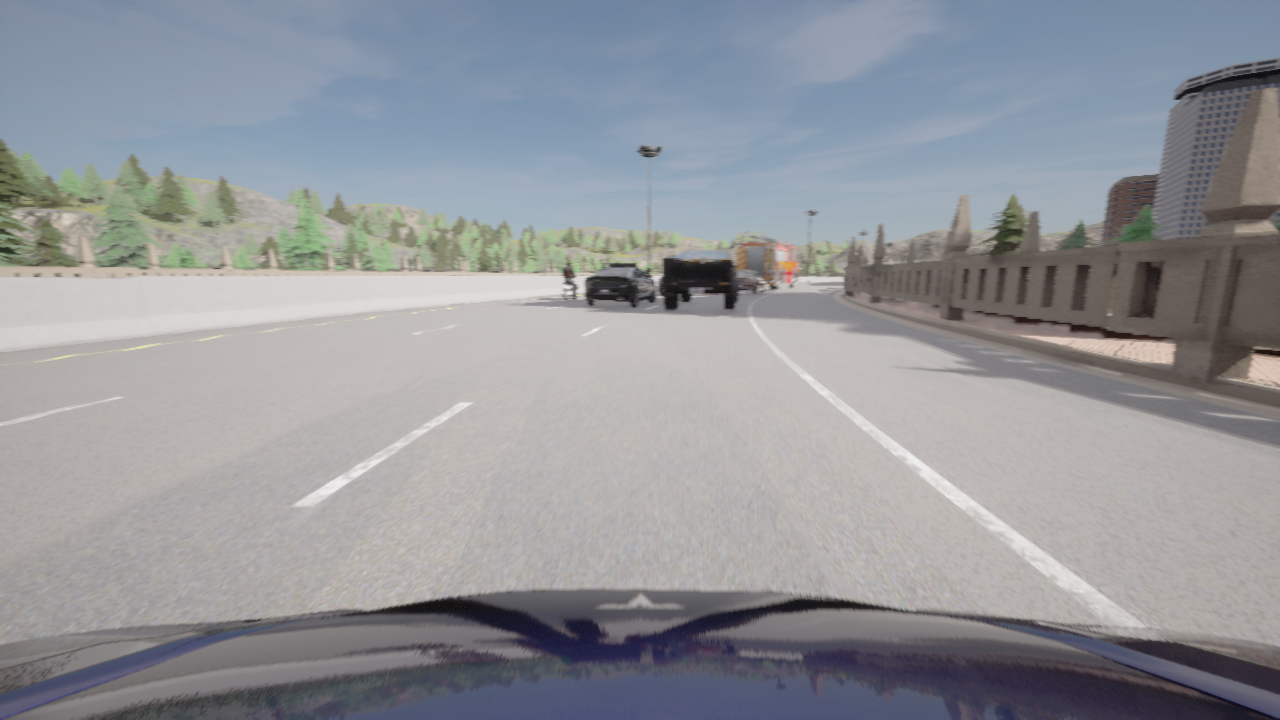cyclist: (0, 588, 1279, 719), (664, 249, 739, 309), (736, 235, 801, 289), (585, 263, 655, 305), (737, 270, 765, 294), (563, 279, 578, 299), (659, 275, 664, 294)
